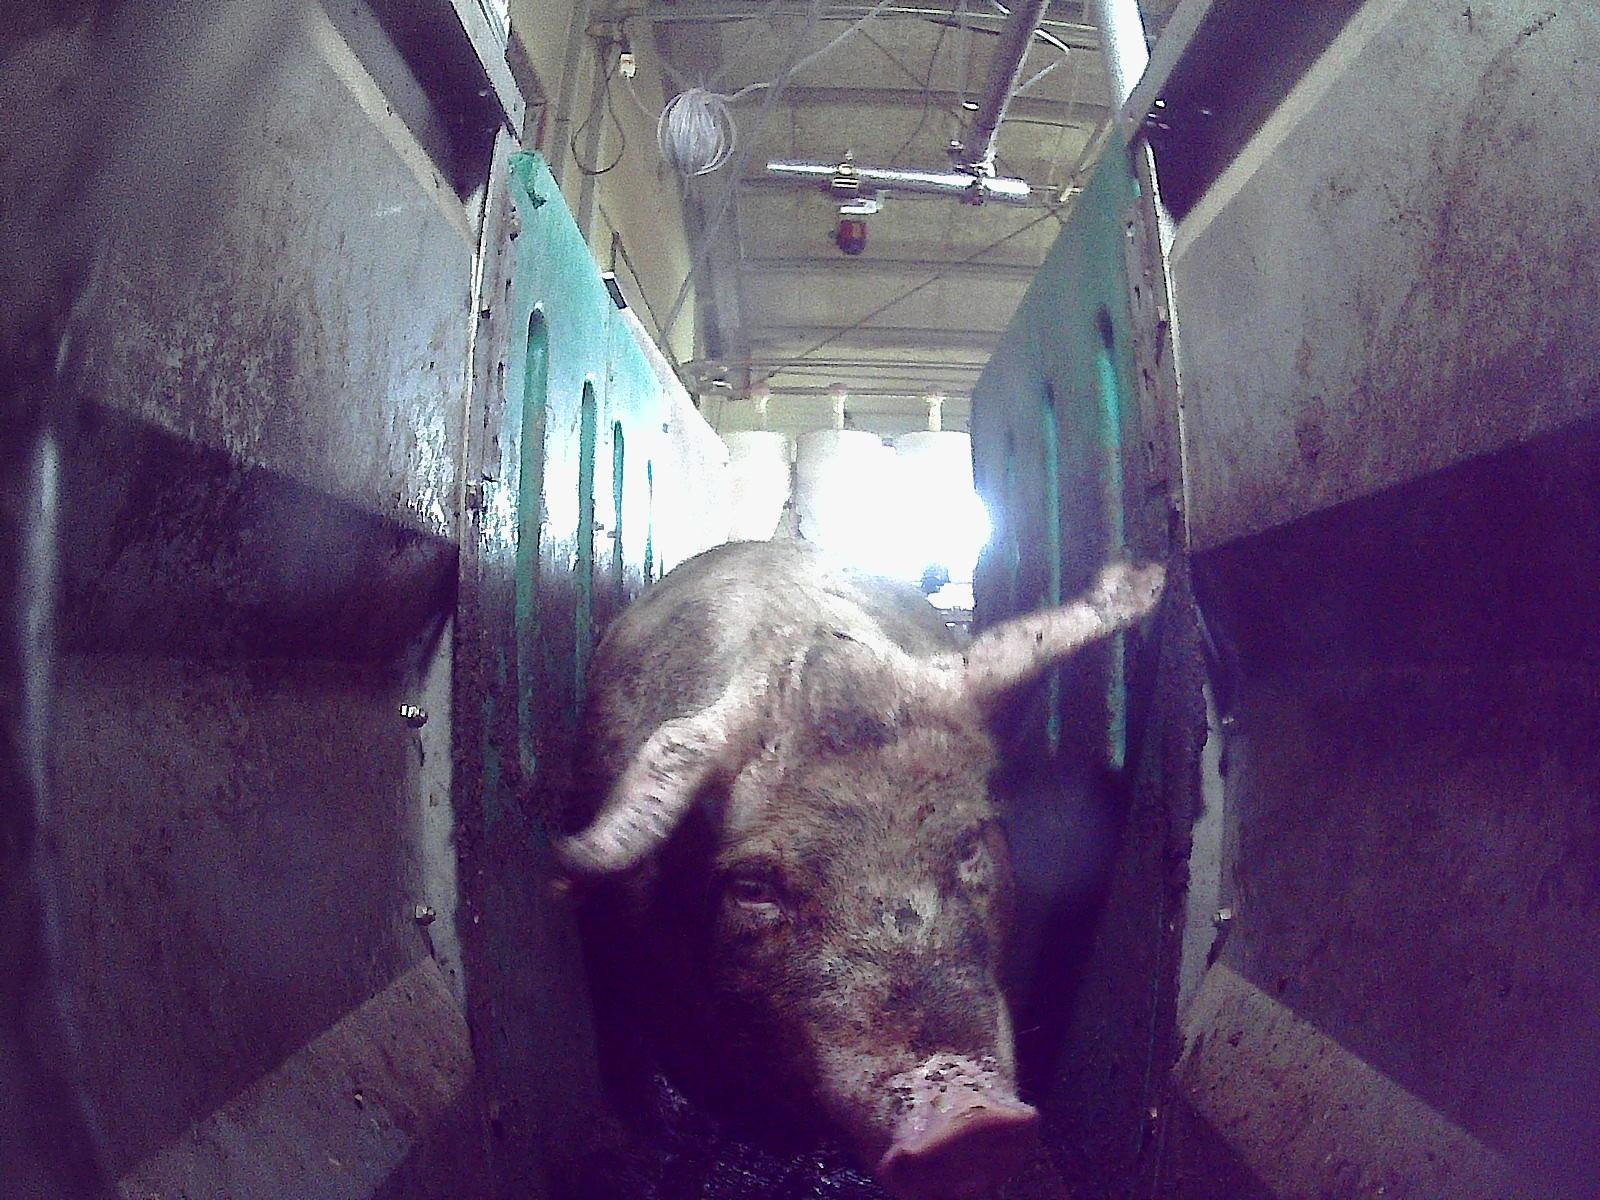Face: (685, 707, 1042, 1199)
